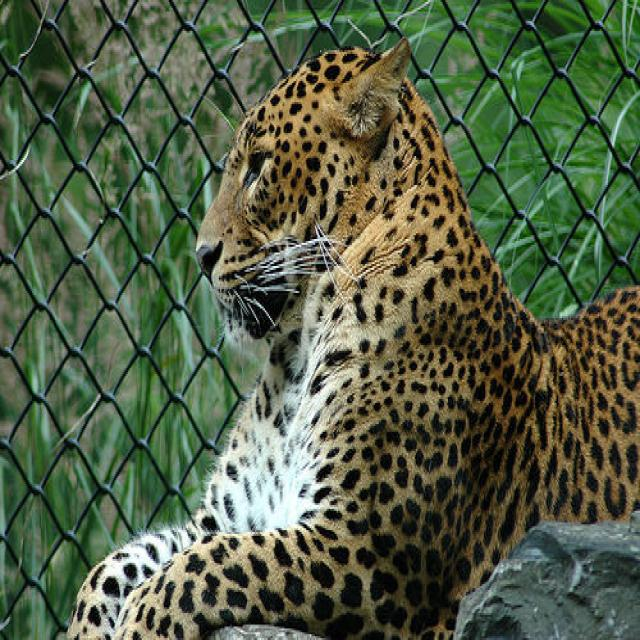Leopard: (68, 23, 637, 636)
